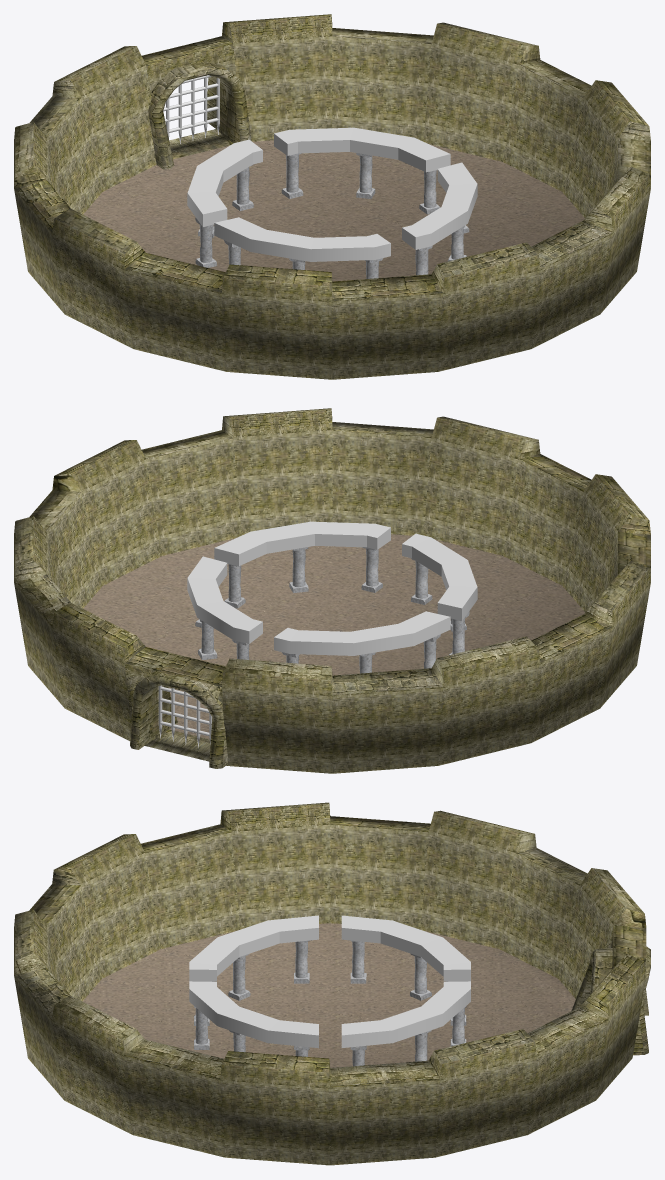
File: Arena.FBX
The picture shows the model from 3 angles, top to bottom: view 1: azimuth 30°, elevation 25°; view 2: azimuth 150°, elevation 25°; view 3: azimuth 270°, elevation 25°; orthographic projection.
Visible parts, largest first — view 1: Cylinder021, Cylinder018, Cylinder001, Cylinder015, Cylinder007, Cylinder010, Cylinder008, Cylinder019; view 2: Cylinder021, Cylinder018, Cylinder001, Cylinder013, Cylinder016, Cylinder017, Cylinder014; view 3: Cylinder021, Cylinder018, Cylinder001, Cylinder011, Cylinder009, Cylinder010, Cylinder020.
Part boxes in pixels (bbox=[...]): Cylinder021: bbox=[14, 14, 650, 379]; Cylinder018: bbox=[187, 127, 477, 261]; Cylinder001: bbox=[148, 61, 251, 169]; Cylinder015: bbox=[356, 153, 375, 198]; Cylinder007: bbox=[281, 153, 303, 198]; Cylinder010: bbox=[195, 217, 216, 267]; Cylinder008: bbox=[232, 164, 253, 210]; Cylinder019: bbox=[419, 170, 439, 214]; Cylinder021: bbox=[14, 408, 650, 773]; Cylinder018: bbox=[187, 521, 477, 655]; Cylinder001: bbox=[130, 670, 227, 768]; Cylinder013: bbox=[289, 547, 308, 593]; Cylinder016: bbox=[361, 547, 382, 592]; Cylinder017: bbox=[411, 558, 432, 604]; Cylinder014: bbox=[224, 564, 245, 608]; Cylinder021: bbox=[14, 802, 646, 1165]; Cylinder018: bbox=[189, 915, 470, 1048]; Cylinder001: bbox=[571, 946, 650, 1055]; Cylinder011: bbox=[228, 953, 250, 1000]; Cylinder009: bbox=[410, 953, 431, 1000]; Cylinder010: bbox=[350, 940, 366, 983]; Cylinder020: bbox=[294, 940, 309, 983].
Bounding box in the file's own units: 517 × 92.8 × 513.
Materials: 3 (3 with a texture image).
